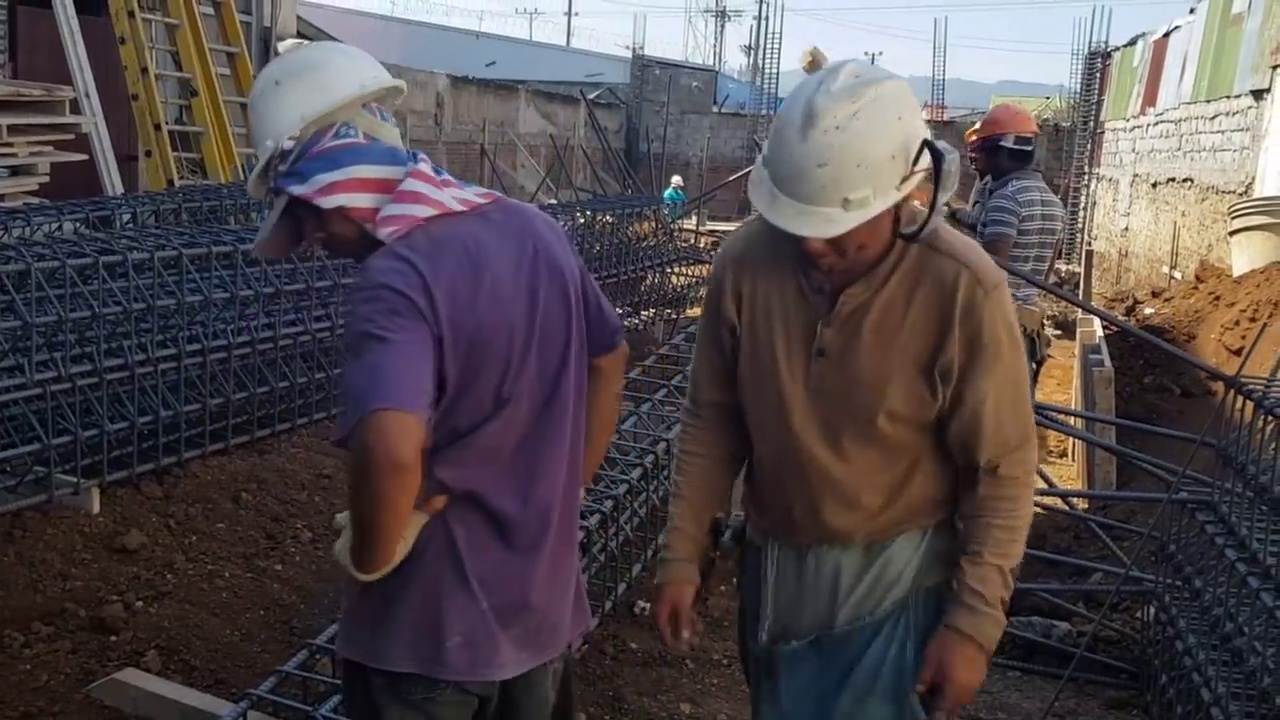helmet: (754, 55, 945, 249), (240, 42, 399, 163), (966, 106, 1047, 149), (670, 176, 685, 188)
helmet-on: (751, 54, 950, 299), (250, 42, 416, 282), (966, 103, 1047, 189), (669, 174, 686, 191)
person: (238, 38, 618, 714), (647, 57, 1026, 682), (954, 100, 1060, 327), (663, 173, 687, 221)
